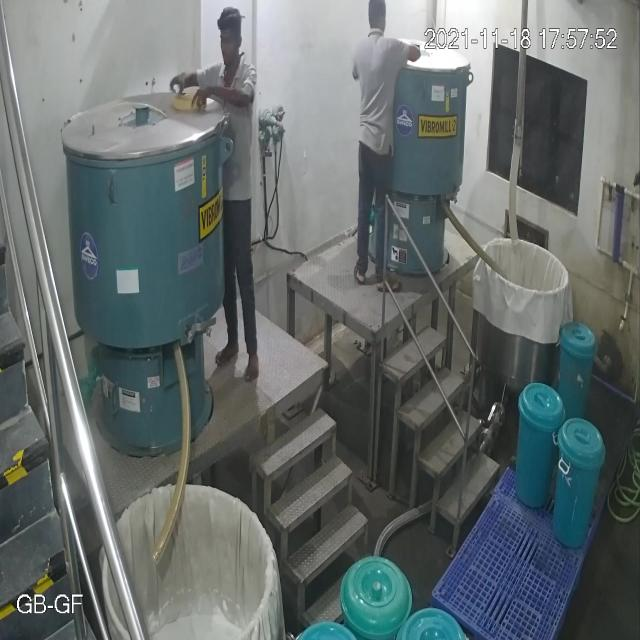no-shoes: (212, 338, 241, 372), (243, 353, 263, 384), (350, 262, 367, 287)
